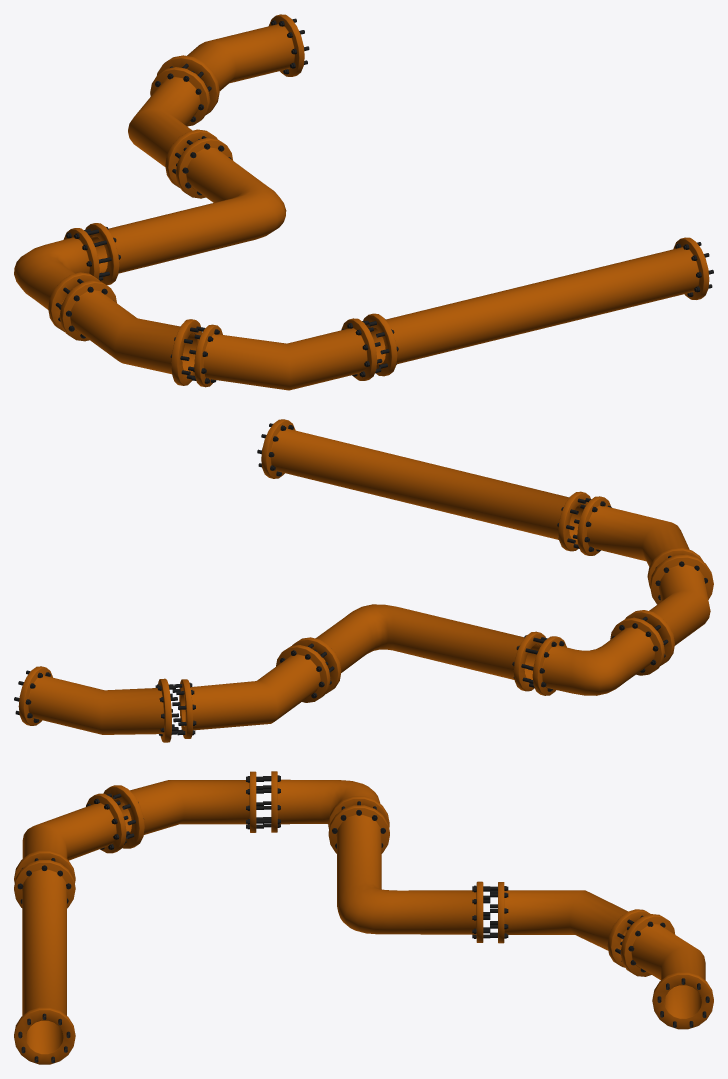
Rendered from IND_PIPE_6.FBX.
3 renders of one model, top to bottom at view 1: azimuth 30°, elevation 25°; view 2: azimuth 150°, elevation 25°; view 3: azimuth 270°, elevation 25°, orthographic. The views are drawn at different scales.
Parts seen in each view (by area): view 1: Cylinder029, Pipe_6; view 2: Cylinder029, Pipe_6; view 3: Cylinder029, Pipe_6.
Part boxes in pixels (x1,y1,x2,y2): Cylinder029: (14,14,709,390); Pipe_6: (59,18,713,383); Cylinder029: (18,419,713,742); Pipe_6: (14,423,707,736); Cylinder029: (14,771,713,1064); Pipe_6: (17,776,709,1062).
Size of the model in its own units: 1906 by 205 by 2242.
